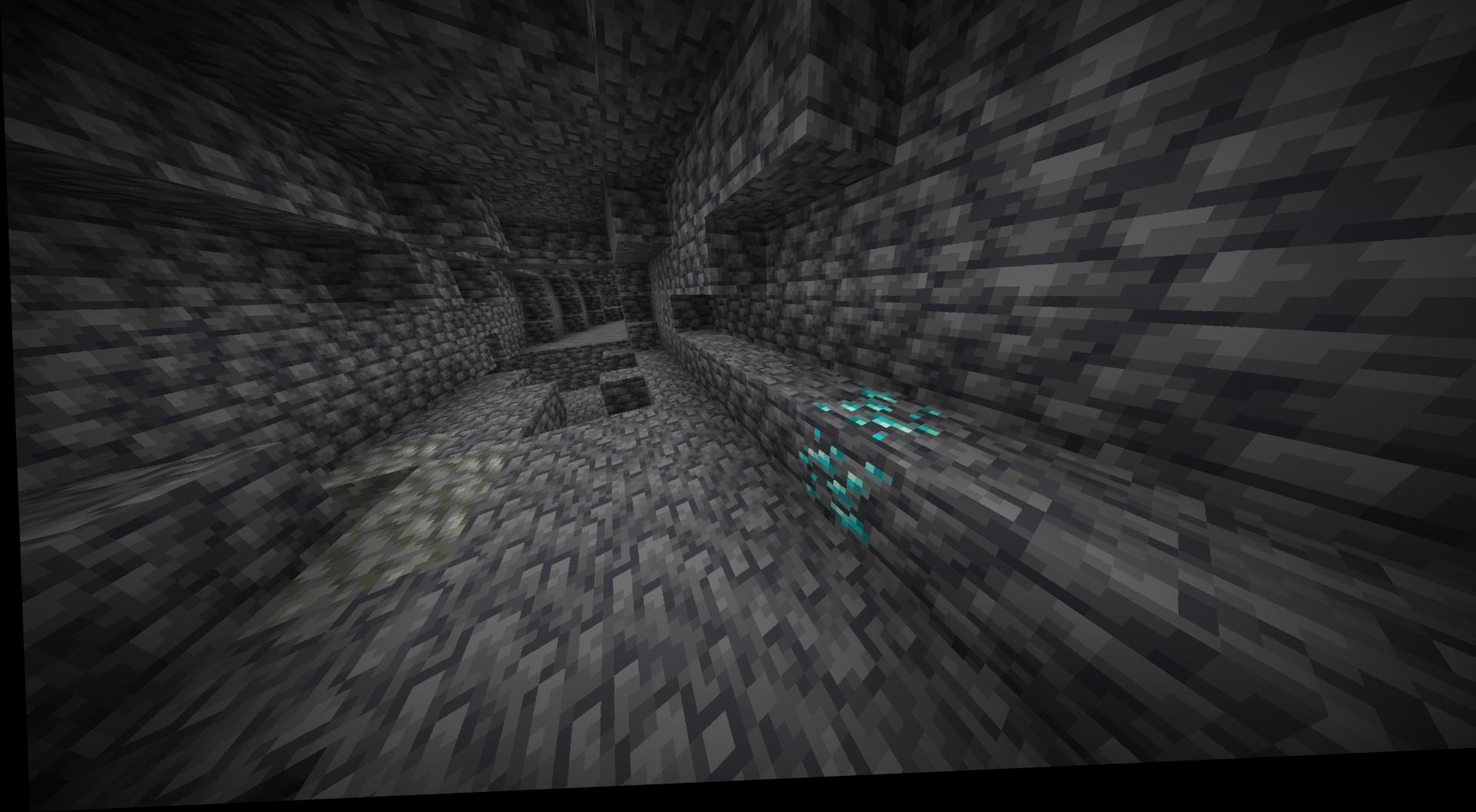diamond ore: (778, 398, 946, 549)
